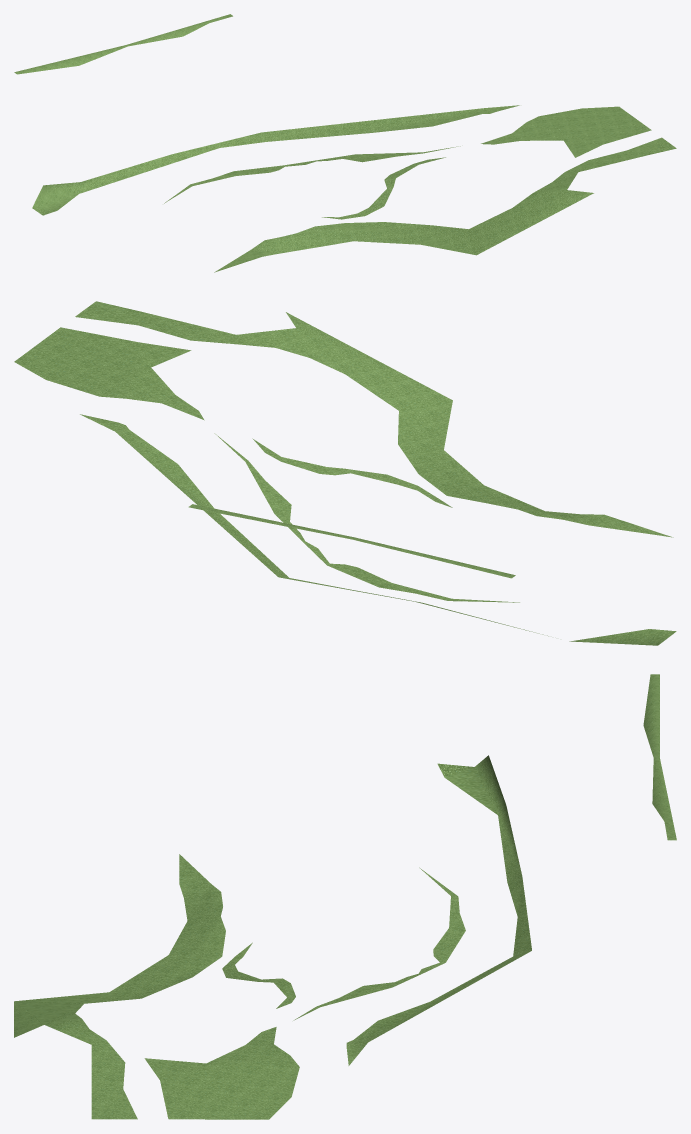
File: kd_stage_13612f_0_7_bounded.glb
3 renders of one model, top to bottom at view 1: azimuth 30°, elevation 25°; view 2: azimuth 150°, elevation 25°; view 3: azimuth 270°, elevation 25°, orthographic. The views are drawn at different scales.
Parts seen in each view (by area): view 1: kd_stage_13612f_0_7_bounded; view 2: kd_stage_13612f_0_7_bounded; view 3: kd_stage_13612f_0_7_bounded.
Boxes of the visible parts, x1,y1,x2,y2 form: kd_stage_13612f_0_7_bounded: (14, 14, 676, 272); kd_stage_13612f_0_7_bounded: (14, 301, 676, 645); kd_stage_13612f_0_7_bounded: (14, 674, 676, 1119).
Size of the model in its own units: 98.54 by 17.57 by 70.79.
1 material, 1 textured.
